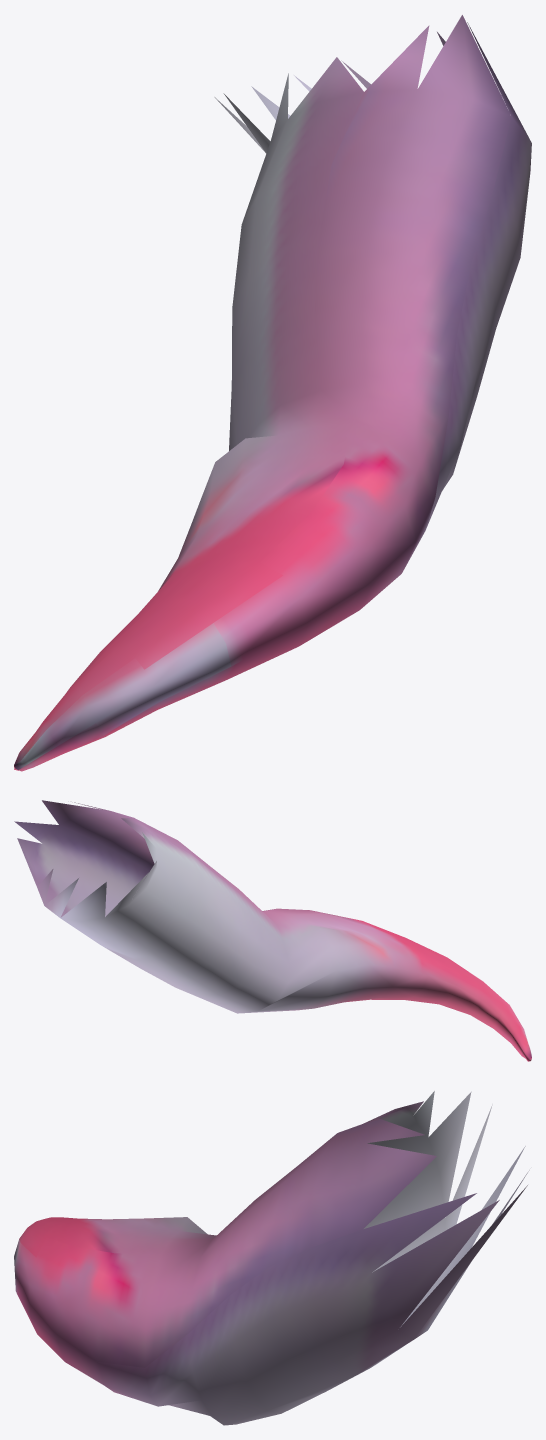
File: Punta2.obj
3 views of the same model, one above another, from view 1: azimuth 30°, elevation 25°; view 2: azimuth 150°, elevation 25°; view 3: azimuth 270°, elevation 25° (orthographic). The views are drawn at different scales.
Parts seen in each view (by area): view 1: Punta2; view 2: Punta2; view 3: Punta2.
Part boxes in pixels (x1=…): Punta2: x1=14, y1=15, x2=531, y2=771; Punta2: x1=14, y1=800, x2=531, y2=1061; Punta2: x1=14, y1=1091, x2=529, y2=1425.
Bounding box in the file's own units: 9.89 × 6.18 × 6.97.
